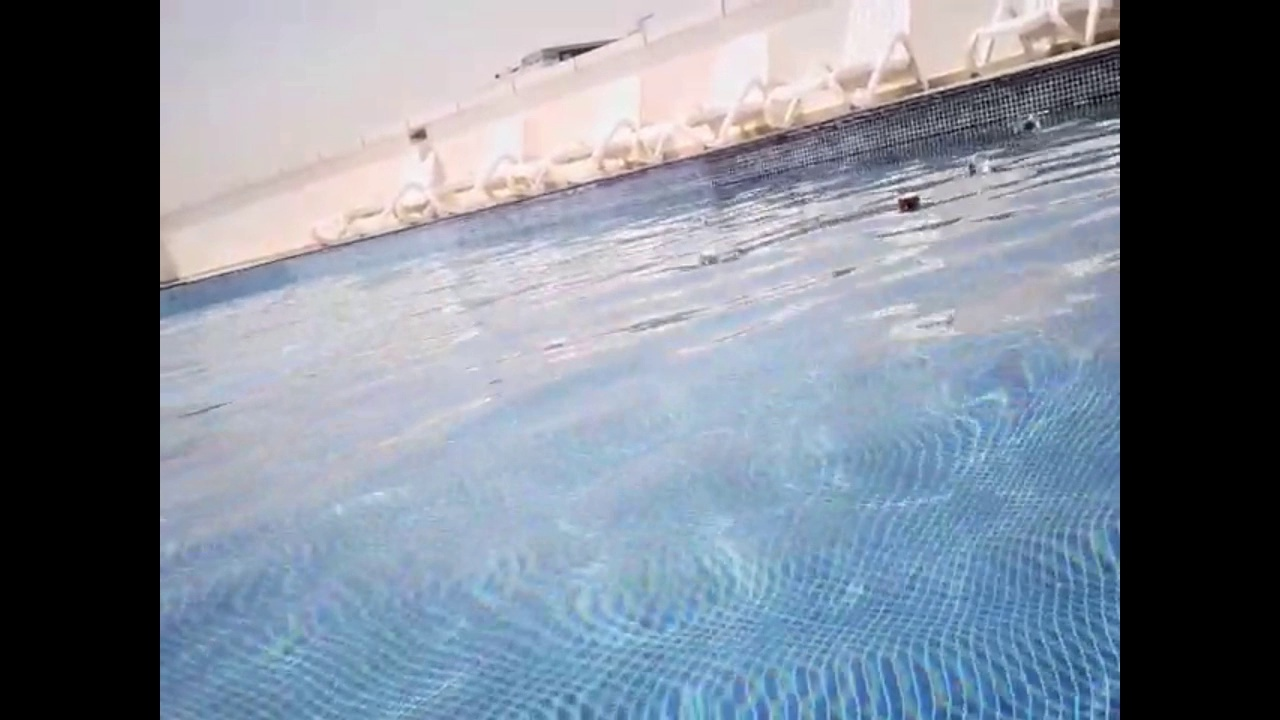debris: (1008, 108, 1041, 141), (893, 180, 924, 215), (964, 141, 996, 173), (692, 241, 720, 266)
